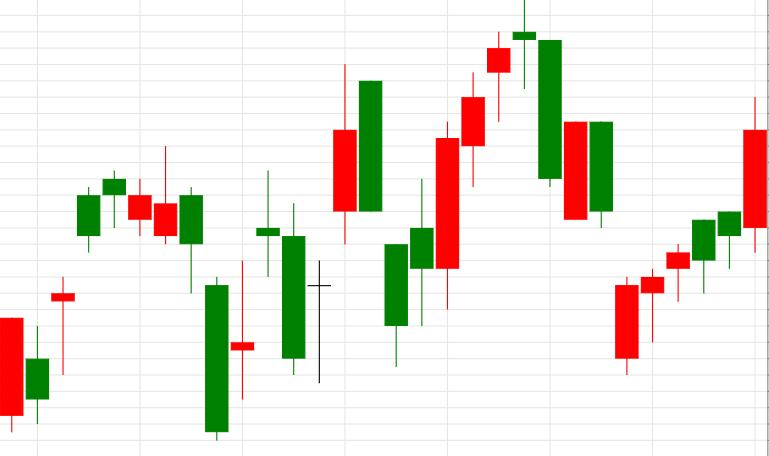evening_star_fall: (384, 0, 561, 366), (26, 171, 152, 423)
